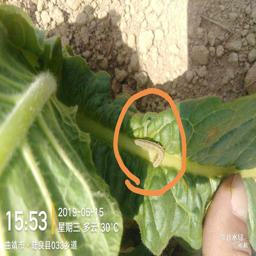Tobacco_budworm: (132, 139, 166, 168)
